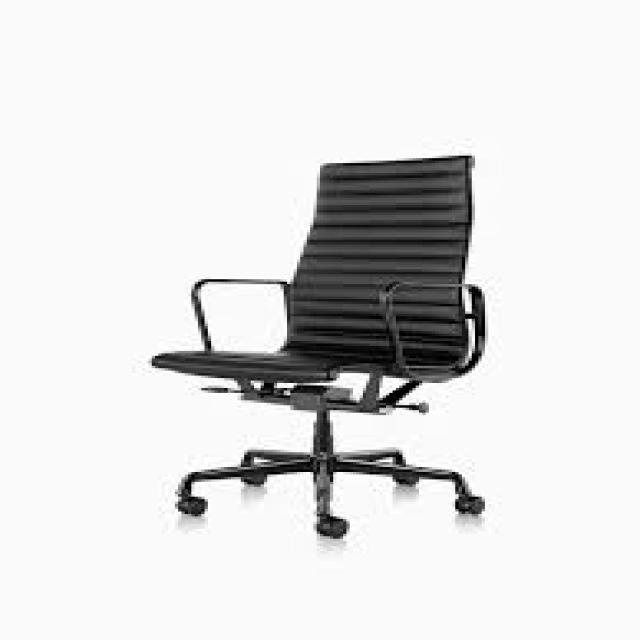chair: (40, 75, 558, 610)
